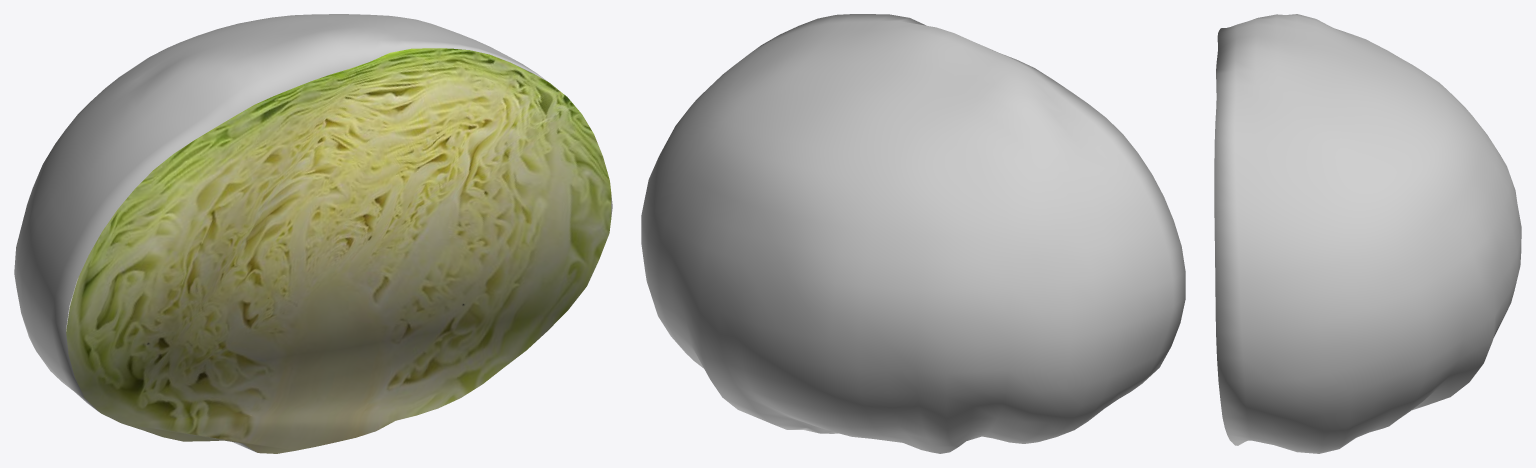
Rendered from Cabbage2.fbx.
The picture shows the model from 3 angles, left to right: view 1: azimuth 30°, elevation 25°; view 2: azimuth 150°, elevation 25°; view 3: azimuth 270°, elevation 25°; orthographic projection. The views are drawn at different scales.
Parts seen in each view (by area): view 1: Cabbage; view 2: Cabbage; view 3: Cabbage.
Part boxes in pixels (bbox=[...]): Cabbage: bbox=[14, 14, 612, 453]; Cabbage: bbox=[641, 14, 1185, 453]; Cabbage: bbox=[1214, 14, 1521, 453].
Bounding box in the file's own units: 16.88 × 12.2 × 9.37.
